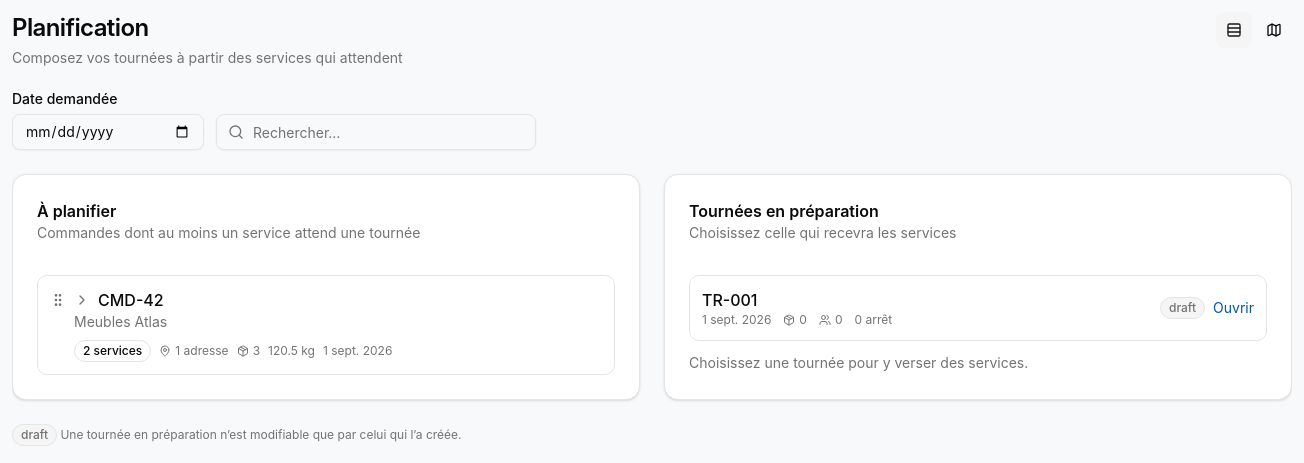
Test: écran de planification › n’offre de planifier qu’une fois la tournée choisie
This screenshot has width=1304, height=463.
Expected: the text "CMD-42" is shown, [50,288,167,312]
Expected: the button "Planifier la commande" is not shown
Click the button "TR-001 1 sept. 2026 0 0 0 arrêt".
click(730, 300)  # box [702,288,1152,328]
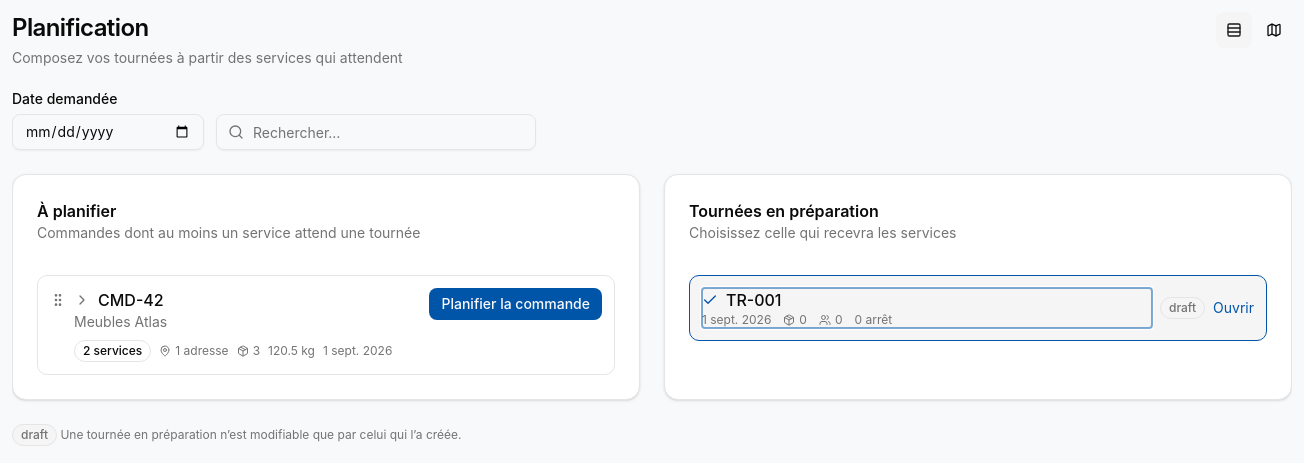
Expected: the button "Planifier la commande" is shown, [430,288,602,320]
